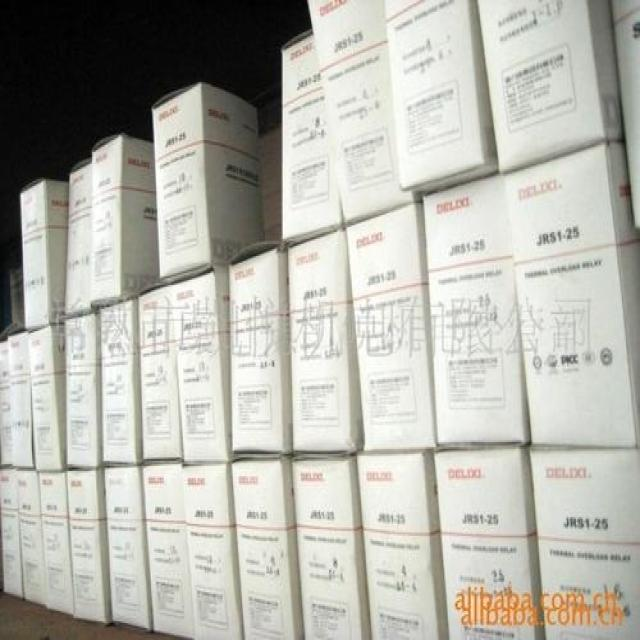box: (502, 142, 640, 447), (422, 174, 531, 447), (306, 0, 424, 227), (477, 0, 625, 174), (344, 203, 438, 452), (152, 82, 266, 280), (435, 447, 544, 640), (531, 447, 640, 640), (288, 225, 365, 456), (357, 449, 449, 640), (291, 456, 371, 640), (228, 242, 292, 457), (280, 29, 343, 246), (232, 457, 303, 640), (173, 258, 233, 463), (91, 135, 160, 309), (182, 463, 244, 640), (143, 463, 195, 637), (102, 463, 154, 628), (137, 278, 180, 463), (19, 177, 68, 331), (67, 466, 114, 623), (100, 288, 141, 463), (609, 0, 640, 229), (65, 311, 102, 466), (27, 323, 65, 471), (40, 473, 74, 614), (64, 159, 91, 319), (15, 471, 46, 608), (8, 333, 33, 469), (1, 469, 24, 599), (260, 126, 280, 239), (0, 341, 12, 468), (10, 266, 23, 329)
